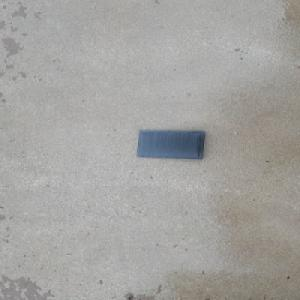PlasticPart: (135, 129, 207, 160)
